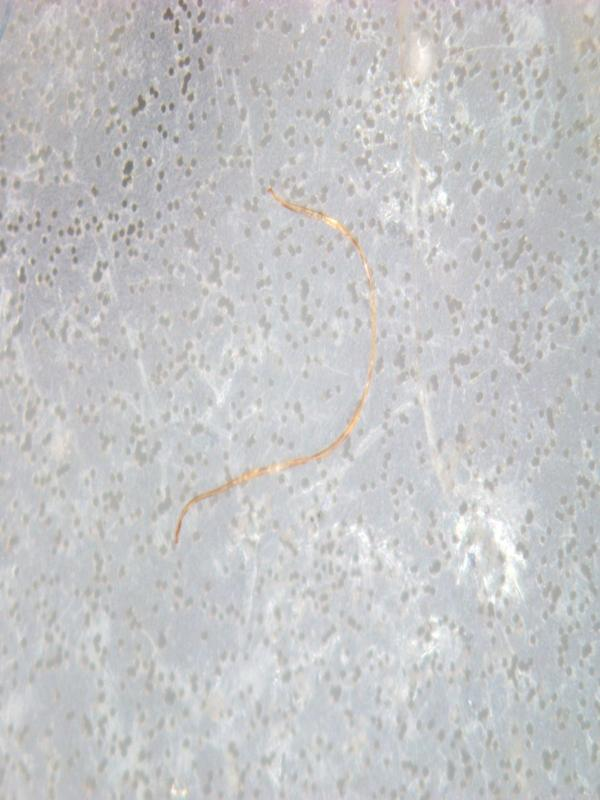microplastic: (1, 0, 598, 798), (172, 183, 376, 546)
